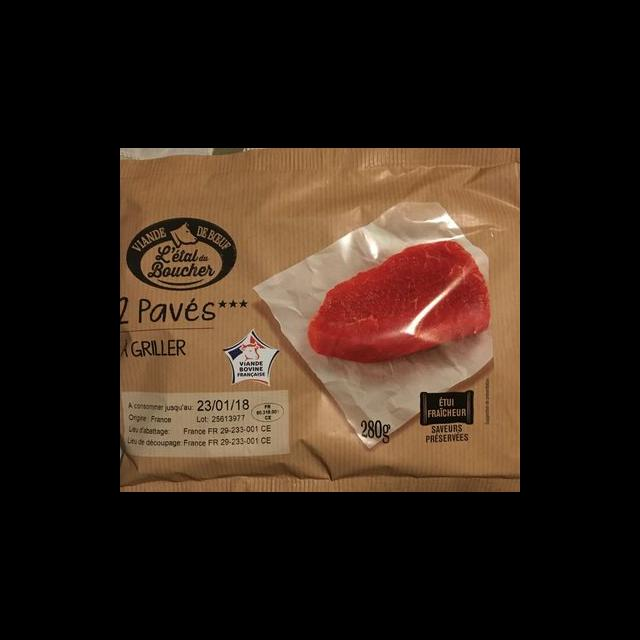beef: (308, 241, 488, 362)
